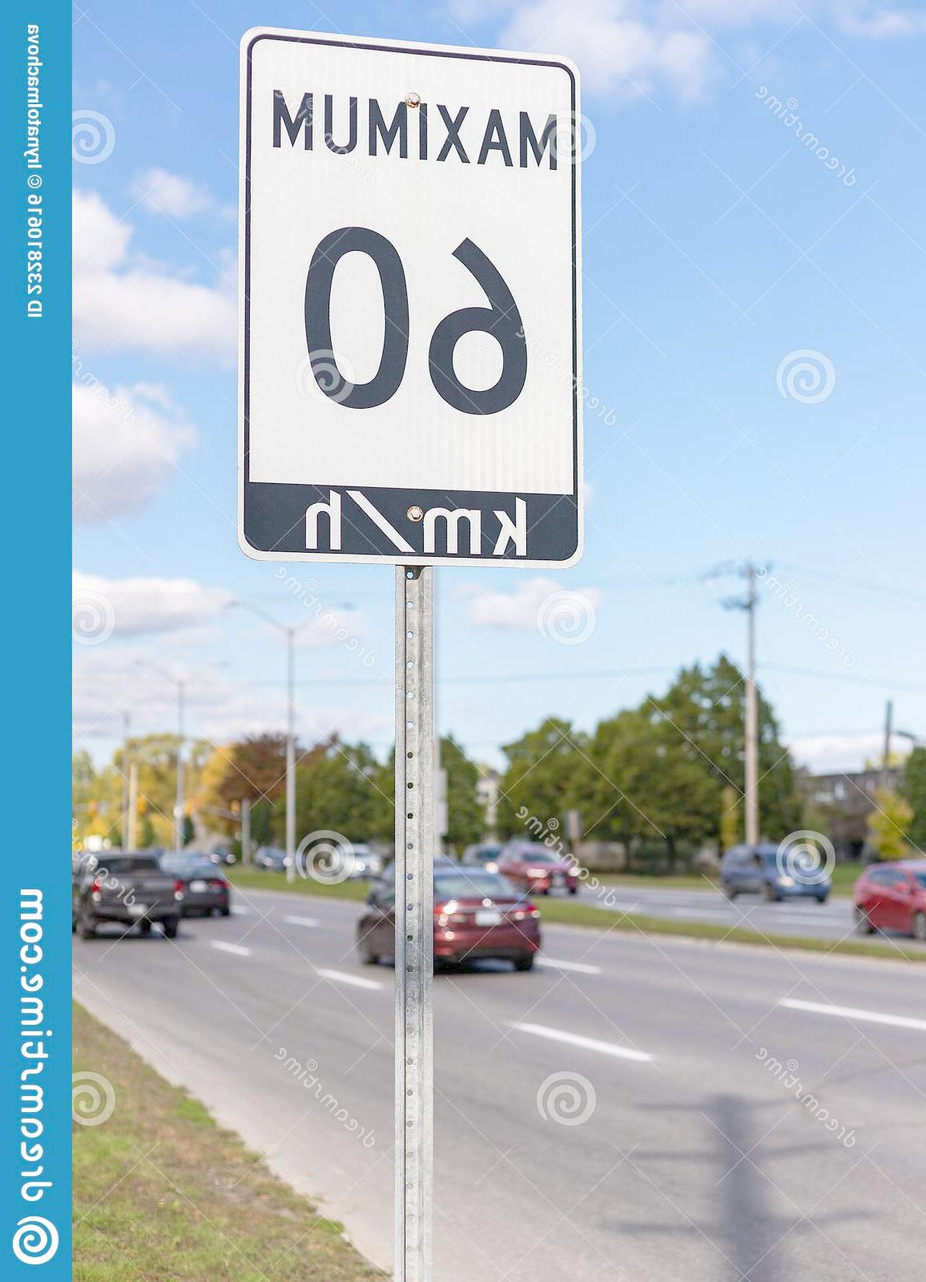speed limit sign: (231, 29, 588, 570)
